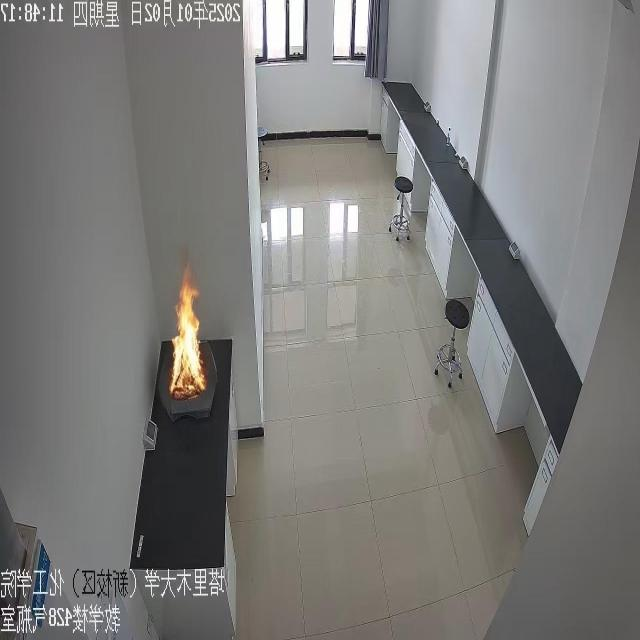fire: (136, 228, 225, 422)
